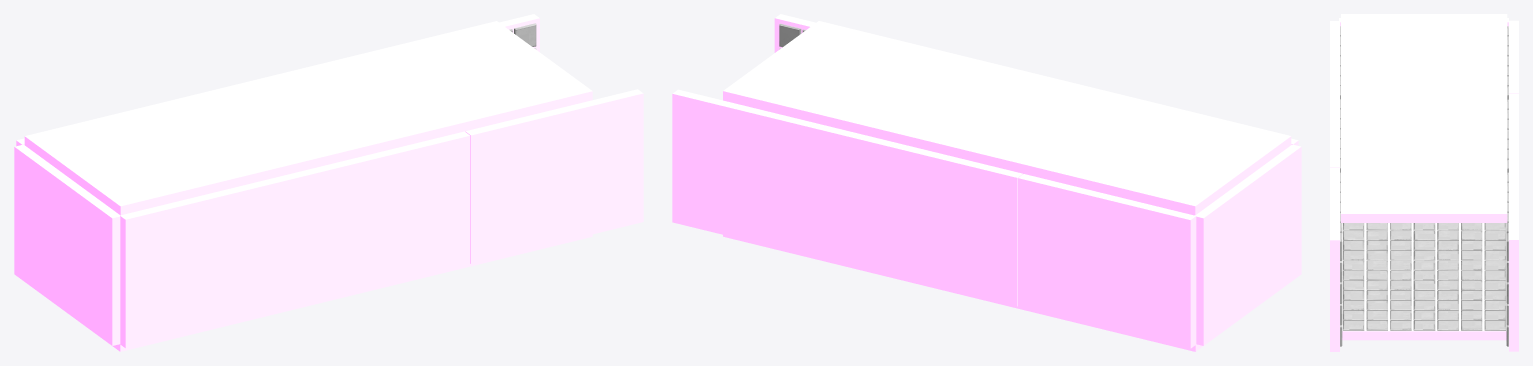
Rendered from white_box_room.fbx.
3 renders of one model, left to right at view 1: azimuth 30°, elevation 25°; view 2: azimuth 150°, elevation 25°; view 3: azimuth 270°, elevation 25°, orthographic. The views are drawn at different scales.
Parts seen in each view (by area): view 1: emission_wall; view 2: emission_wall; view 3: emission_wall, tiles.
Part boxes in pixels (box(x1,y1,x2,y2)): emission_wall: box(14, 14, 643, 351); emission_wall: box(672, 14, 1301, 351); emission_wall: box(1330, 14, 1518, 351); tiles: box(1340, 26, 1508, 346).
Size of the model in its own units: 4912 by 1299 by 1759.
